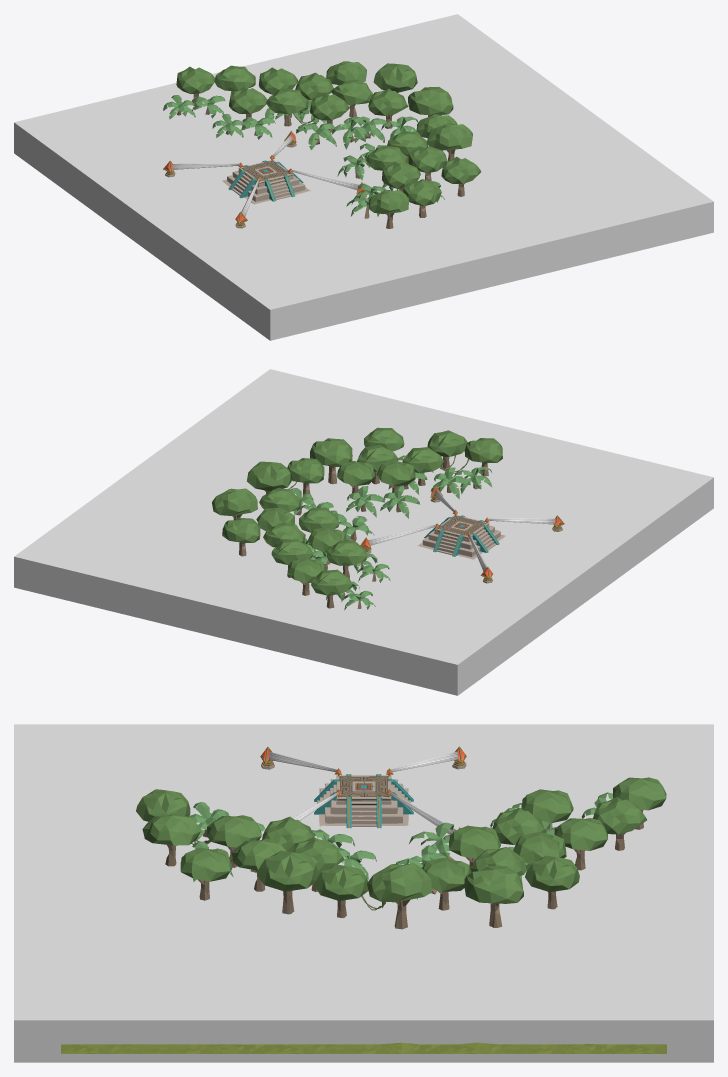
The picture shows the model from 3 angles, top to bottom: view 1: azimuth 30°, elevation 25°; view 2: azimuth 150°, elevation 25°; view 3: azimuth 270°, elevation 25°; orthographic projection. The views are drawn at different scales.
Parts seen in each view (by area): view 1: templeFog, bgTrees, bgTrees02, templeTopMain, templeBase; view 2: templeFog, bgTrees, bgTrees02, templeTopMain, templeBase; view 3: templeFog, bgTrees, bgTrees02, ground, templeTopMain, templeBase, templeStairs3.
Boxes of the visible parts, x1=… form: templeFog: x1=14, y1=14, x2=713, y2=340; bgTrees: x1=163, y1=61, x2=453, y2=149; bgTrees02: x1=337, y1=114, x2=480, y2=228; templeTopMain: x1=238, y1=159, x2=293, y2=186; templeBase: x1=222, y1=170, x2=310, y2=204; templeFog: x1=14, y1=369, x2=713, y2=695; bgTrees: x1=212, y1=461, x2=390, y2=610; bgTrees02: x1=287, y1=427, x2=502, y2=518; templeTopMain: x1=434, y1=514, x2=489, y2=541; templeBase: x1=418, y1=525, x2=505, y2=559; templeFog: x1=14, y1=724, x2=713, y2=1062; bgTrees: x1=367, y1=777, x2=666, y2=929; bgTrees02: x1=136, y1=789, x2=385, y2=917; ground: x1=61, y1=1042, x2=666, y2=1053; templeTopMain: x1=333, y1=775, x2=394, y2=805; templeBase: x1=319, y1=779, x2=408, y2=826; templeStairs3: x1=346, y1=796, x2=381, y2=828.
Bounding box in the file's own units: 155 × 23.94 × 150.
Materials: 4 (4 with a texture image).
